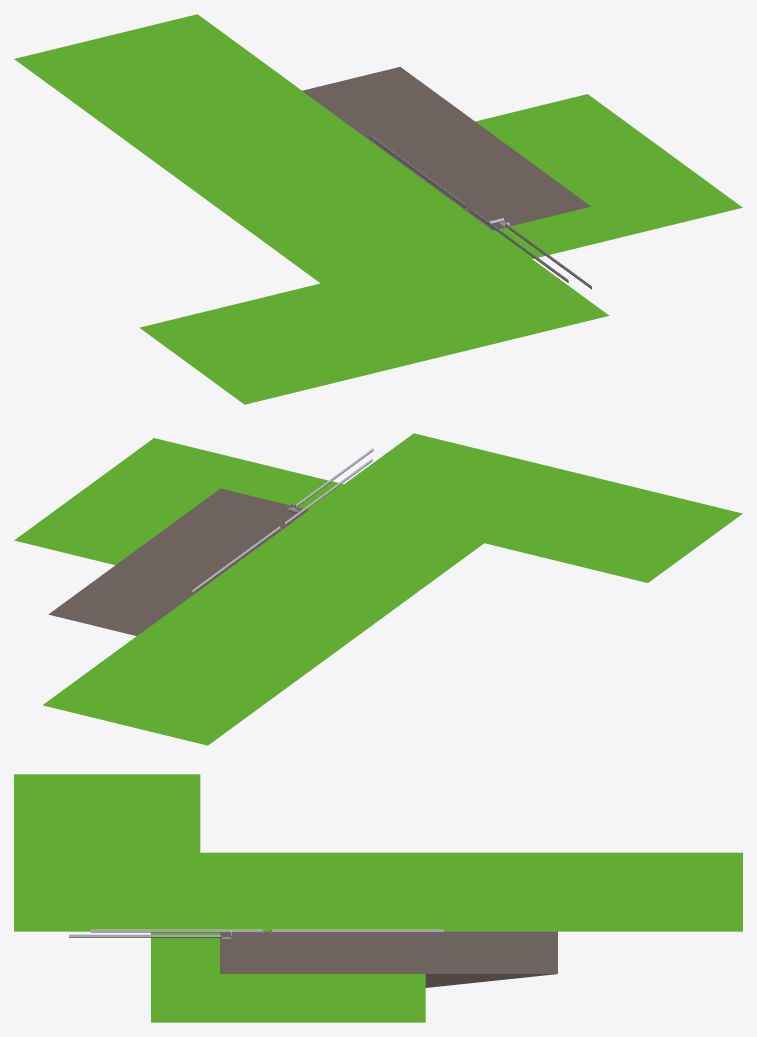
The model's file is Location_1.fbx.
3 renders of one model, top to bottom at view 1: azimuth 30°, elevation 25°; view 2: azimuth 150°, elevation 25°; view 3: azimuth 270°, elevation 25°, orthographic. The views are drawn at different scales.
Parts seen in each view (by area): view 1: Трава_003, Трава_001, Асфальт_005; view 2: Трава_003, Трава_001, Асфальт_005; view 3: Трава_003, Трава_001, Асфальт_005, Обычная_стена_001, Обычная_стена_004, Обычная_стена_002.
Part boxes in pixels (<box>): Трава_003: <box>14,14,609,404</box>; Трава_001: <box>368,94,742,289</box>; Асфальт_005: <box>302,67,590,230</box>; Трава_003: <box>43,433,742,745</box>; Трава_001: <box>14,438,455,565</box>; Асфальт_005: <box>48,488,308,635</box>; Трава_003: <box>14,774,742,931</box>; Трава_001: <box>151,932,425,1022</box>; Асфальт_005: <box>220,931,557,987</box>; Обычная_стена_001: <box>90,929,263,932</box>; Обычная_стена_004: <box>272,929,444,932</box>; Обычная_стена_002: <box>69,934,221,937</box>.
Bounding box in the file's own units: 171063 × 6029 × 212056.
4 materials, 1 textured.
